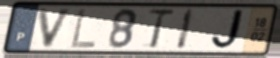8: (107, 7, 139, 50)
I: (175, 7, 197, 52)
J: (210, 8, 250, 52)
L: (68, 7, 98, 50)
T: (146, 8, 177, 50)
V: (37, 7, 76, 50)
